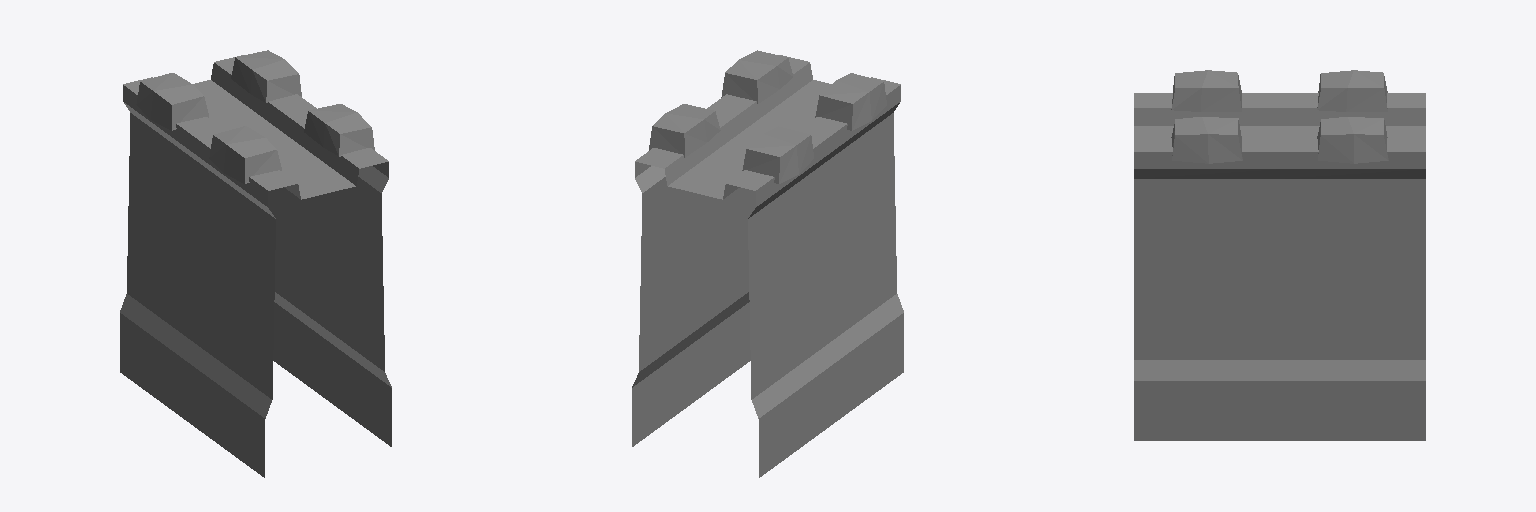
The model's file is StoneWall_C.obj.
3 renders of one model, left to right at view 1: azimuth 30°, elevation 25°; view 2: azimuth 150°, elevation 25°; view 3: azimuth 270°, elevation 25°, orthographic.
Parts seen in each view (by area): view 1: Wall_C_Mesh.011; view 2: Wall_C_Mesh.011; view 3: Wall_C_Mesh.011.
Part boxes in pixels (x1,y1,x2,y2): Wall_C_Mesh.011: (120, 50, 391, 477); Wall_C_Mesh.011: (632, 50, 903, 477); Wall_C_Mesh.011: (1134, 70, 1425, 440).
Size of the model in its own units: 2.16 by 4.66 by 4.